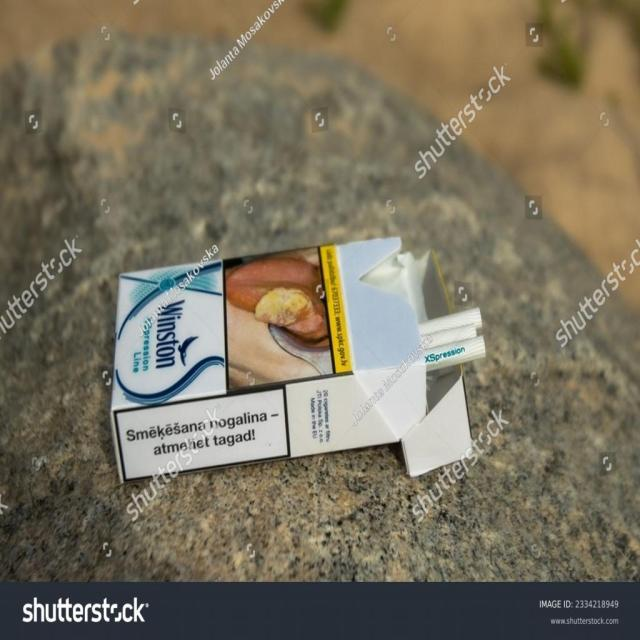smoking: (106, 235, 489, 484)
